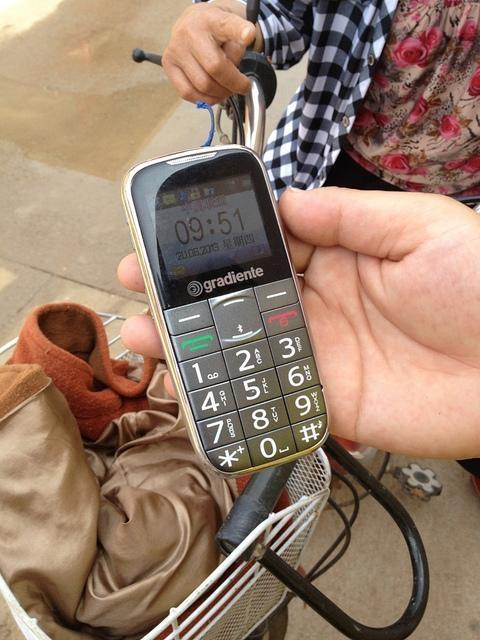bicycle: (1, 45, 330, 632)
